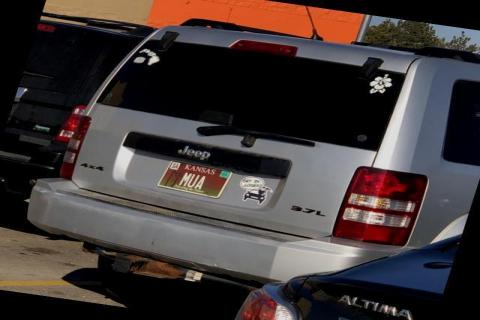LicensePlate: (154, 157, 232, 198)
